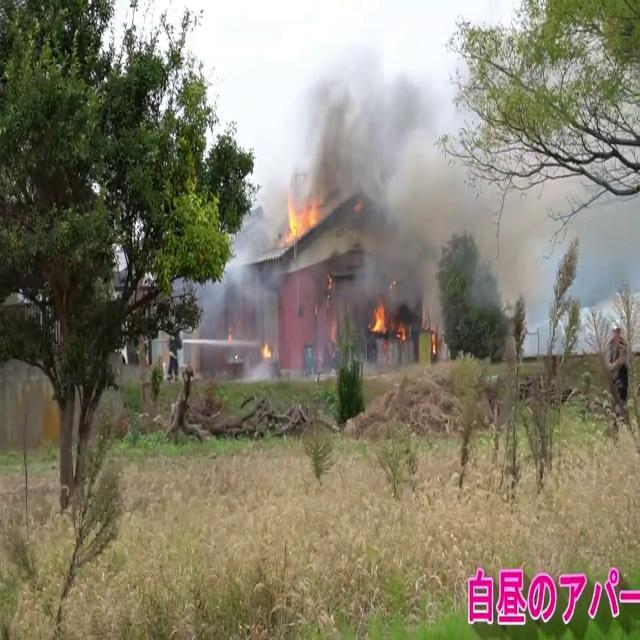Fire: (281, 190, 323, 250), (368, 296, 389, 340)
Smoke: (276, 24, 526, 330)
